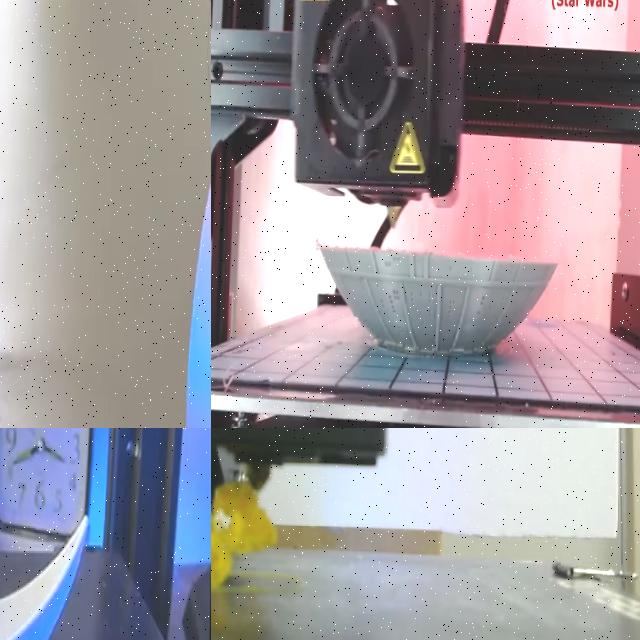spaghetti: (211, 477, 289, 592)
